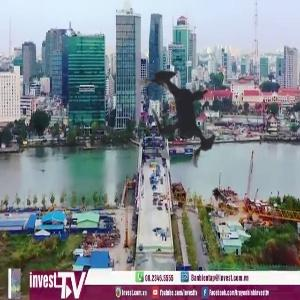drone: (103, 36, 266, 199)
